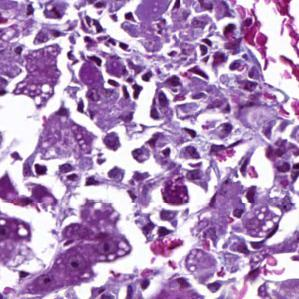inflammation: (191, 12, 248, 86)
